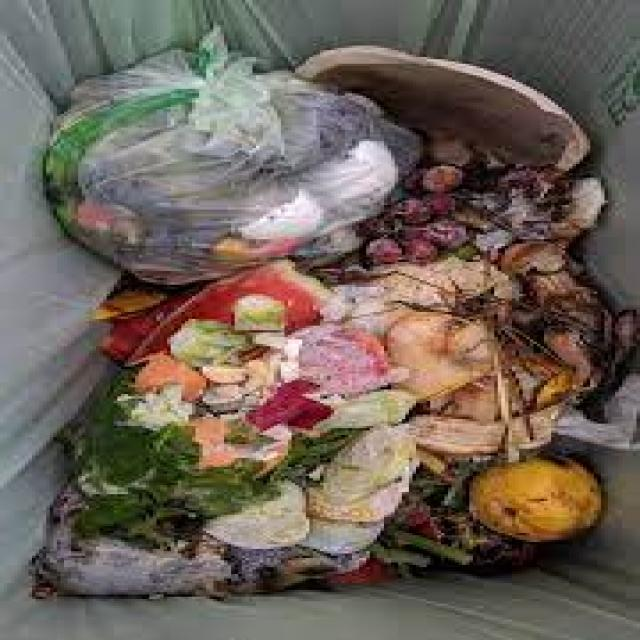Organic: (94, 274, 590, 614), (401, 77, 632, 293)
